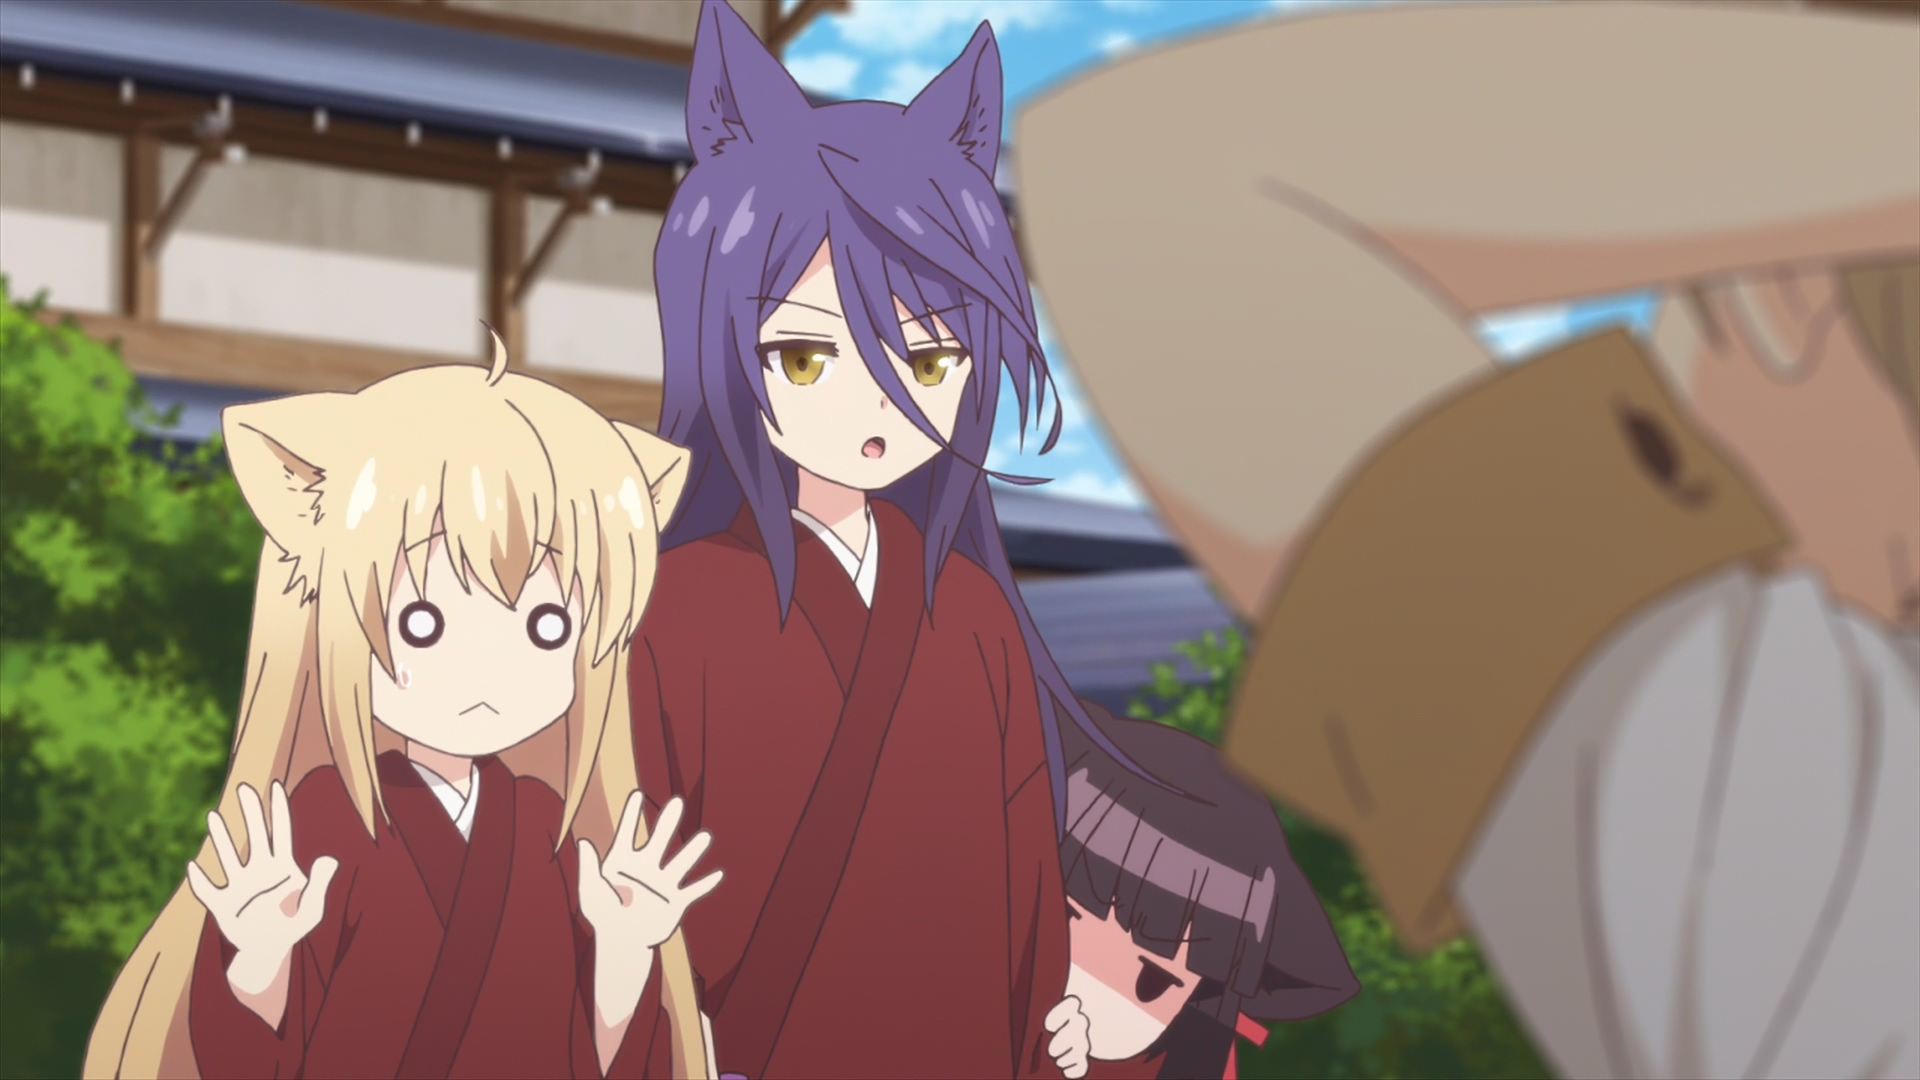其他: (1015, 1, 1920, 1080)
柚: (78, 320, 711, 1080)
樱: (1047, 695, 1360, 1080)
皋: (626, 1, 1069, 1080)
